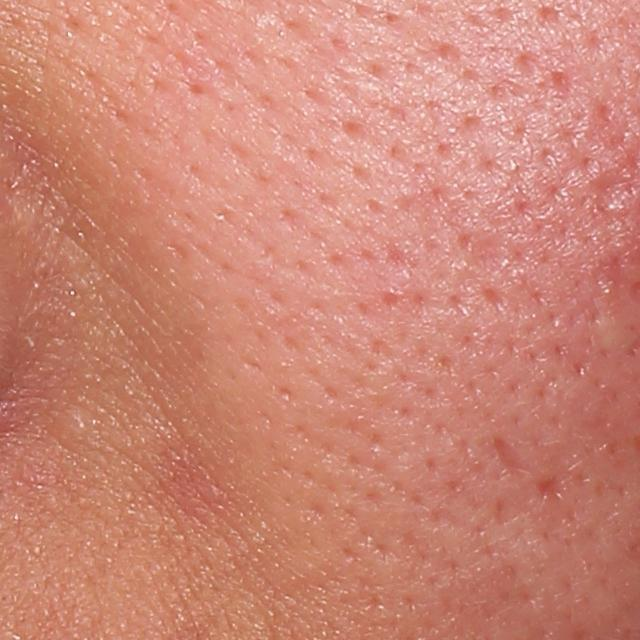atrophic_scar: (584, 153, 634, 214), (492, 431, 530, 473), (531, 472, 571, 503)
hypertrophic_scar: (588, 309, 636, 358)
